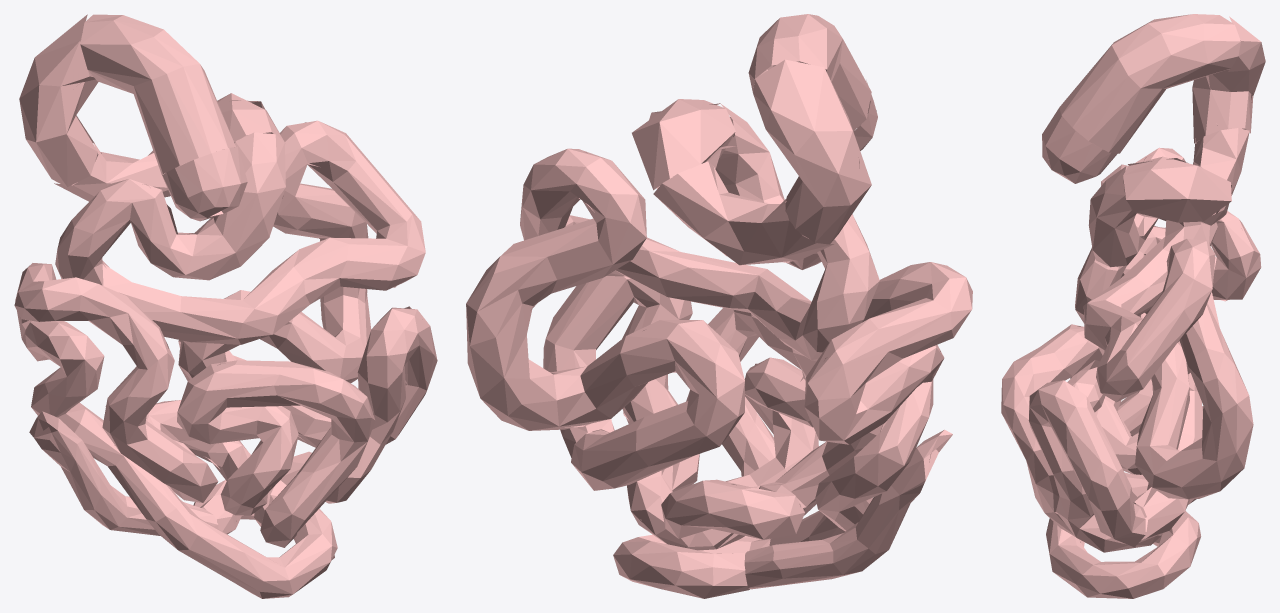
The model's file is VH_F_Small_Intestine_0.1.glb.
3 views of the same model, side by side, from view 1: azimuth 30°, elevation 25°; view 2: azimuth 150°, elevation 25°; view 3: azimuth 270°, elevation 25° (orthographic). The views are drawn at different scales.
Visible parts, largest first — view 1: VH_F_ileum, VH_F_jejenum, VH_F_duodenum_superior, VH_F_duodenum_descending, VH_F_ileum_terminal, VH_F_duodenal_ampulla, VH_F_duodenum_horizontal, VH_F_duodenum_ascending; view 2: VH_F_jejenum, VH_F_ileum, VH_F_duodenum_descending, VH_F_ileum_terminal, VH_F_duodenum_horizontal, VH_F_duodenum_superior, VH_F_duodenum_ascending; view 3: VH_F_jejenum, VH_F_ileum, VH_F_duodenum_superior, VH_F_duodenum_ascending, VH_F_duodenum_descending, VH_F_duodenal_ampulla, VH_F_duodenum_horizontal.
Boxes of the visible parts, x1=… form: VH_F_ileum: x1=14, y1=263, x2=437, y2=598; VH_F_jejenum: x1=55, y1=120, x2=425, y2=447; VH_F_duodenum_superior: x1=80, y1=14, x2=235, y2=175; VH_F_duodenum_descending: x1=19, y1=14, x2=98, y2=186; VH_F_ileum_terminal: x1=29, y1=411, x2=218, y2=535; VH_F_duodenal_ampulla: x1=162, y1=146, x2=247, y2=221; VH_F_duodenum_horizontal: x1=54, y1=143, x2=170, y2=201; VH_F_duodenum_ascending: x1=217, y1=93, x2=285, y2=144; VH_F_jejenum: x1=466, y1=104, x2=879, y2=490; VH_F_ileum: x1=543, y1=262, x2=972, y2=598; VH_F_duodenum_descending: x1=753, y1=59, x2=871, y2=244; VH_F_ileum_terminal: x1=744, y1=429, x2=952, y2=589; VH_F_duodenum_horizontal: x1=653, y1=161, x2=833, y2=265; VH_F_duodenum_superior: x1=748, y1=14, x2=871, y2=131; VH_F_duodenum_ascending: x1=632, y1=99, x2=735, y2=190; VH_F_jejenum: x1=1083, y1=147, x2=1253, y2=542; VH_F_ileum: x1=1001, y1=164, x2=1261, y2=598; VH_F_duodenum_superior: x1=1059, y1=14, x2=1240, y2=153; VH_F_duodenum_ascending: x1=1123, y1=156, x2=1231, y2=222; VH_F_duodenum_descending: x1=1192, y1=16, x2=1265, y2=143; VH_F_duodenal_ampulla: x1=1042, y1=108, x2=1117, y2=183; VH_F_duodenum_horizontal: x1=1193, y1=128, x2=1249, y2=225.
Size of the model in its own units: 0.1631 by 0.2175 by 0.1007.
